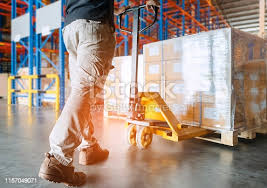Pallet Jack: (117, 3, 265, 150)
